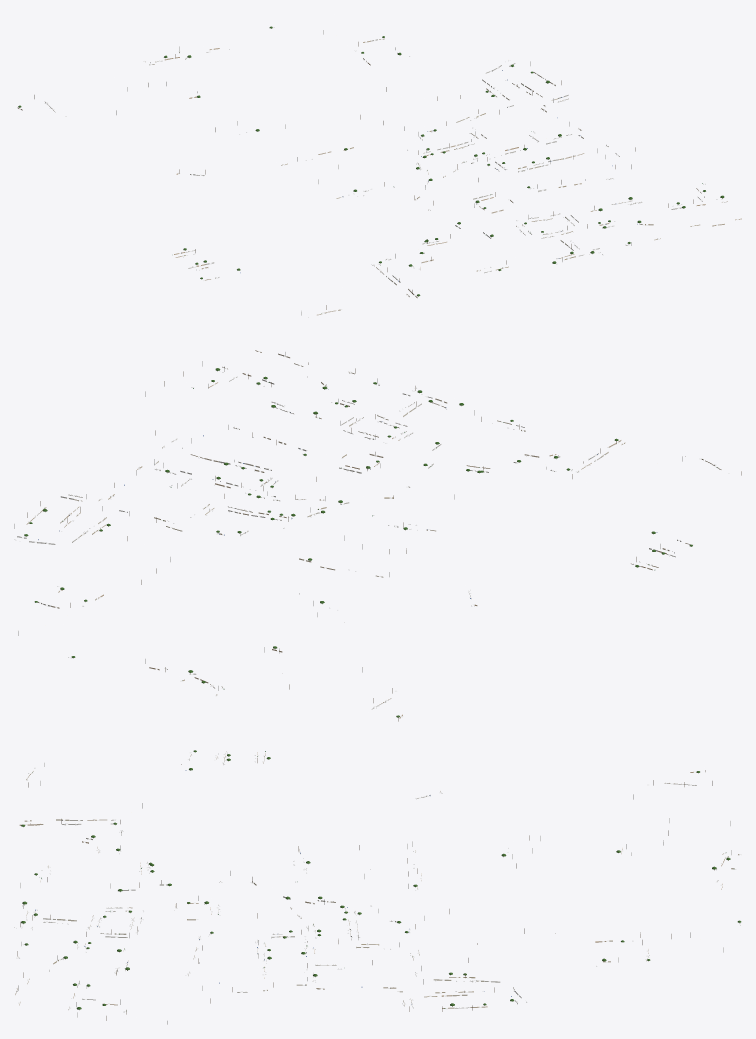
File: nd_stm_m7_m5.glb
3 views of the same model, one above another, from view 1: azimuth 30°, elevation 25°; view 2: azimuth 150°, elevation 25°; view 3: azimuth 270°, elevation 25° (orthographic). The views are drawn at different scales.
Parts seen in each view (by area): view 1: nd_stm_m7_m5_lod0; view 2: nd_stm_m7_m5_lod0; view 3: nd_stm_m7_m5_lod0.
Part boxes in pixels (x1,y1,x2,y2): nd_stm_m7_m5_lod0: (17,26,741,317); nd_stm_m7_m5_lod0: (14,350,741,721); nd_stm_m7_m5_lod0: (14,750,741,1024).
Size of what is drawn, in the model's own units: 901 by 24.28 by 1002.
